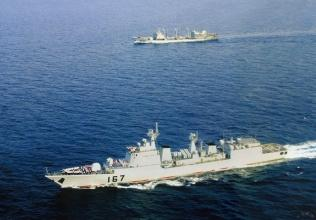Cargoship: (130, 24, 221, 46)
warship: (46, 126, 286, 187)
